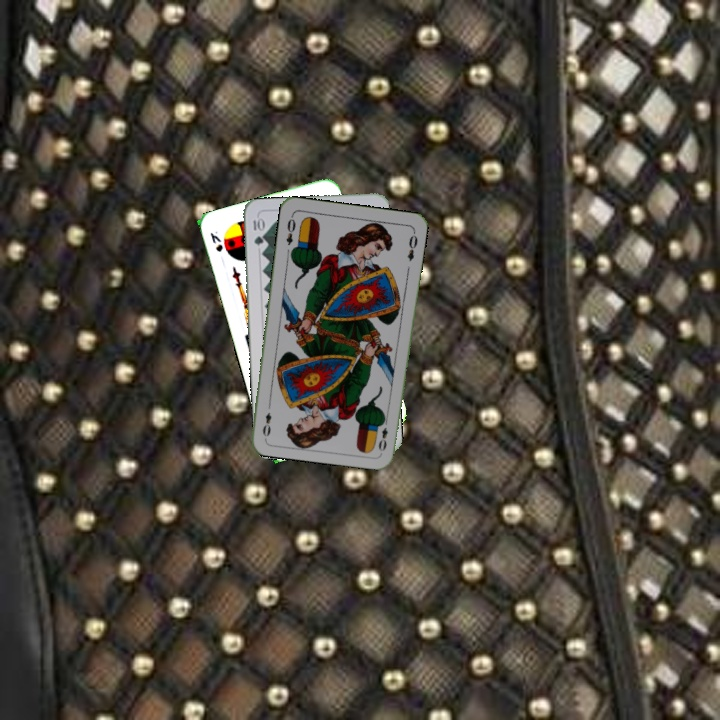EO: (374, 414, 391, 454), (282, 212, 298, 248)
G10: (249, 213, 265, 248)
SK: (206, 227, 226, 254)
